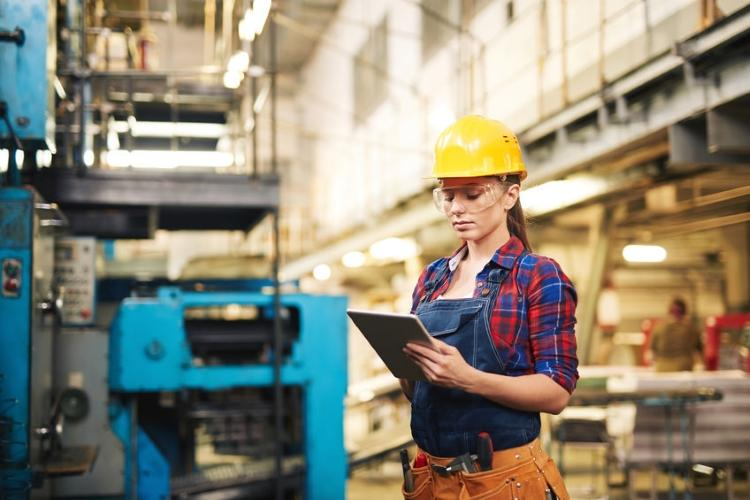helmet: (436, 116, 529, 180)
